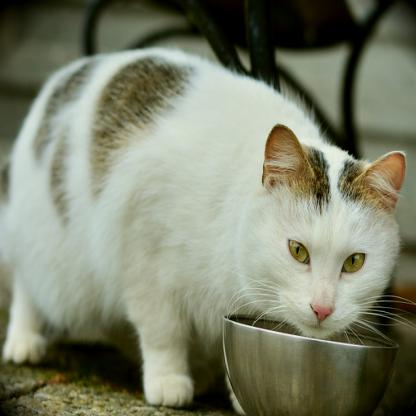cat: (3, 49, 406, 408)
